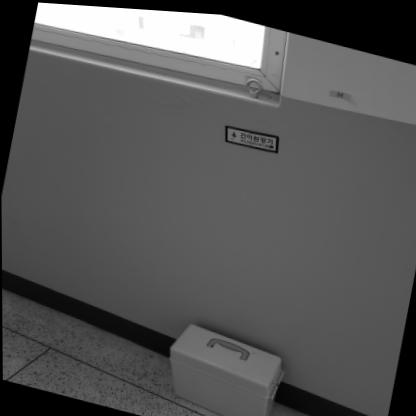DDL: (157, 316, 286, 416)
